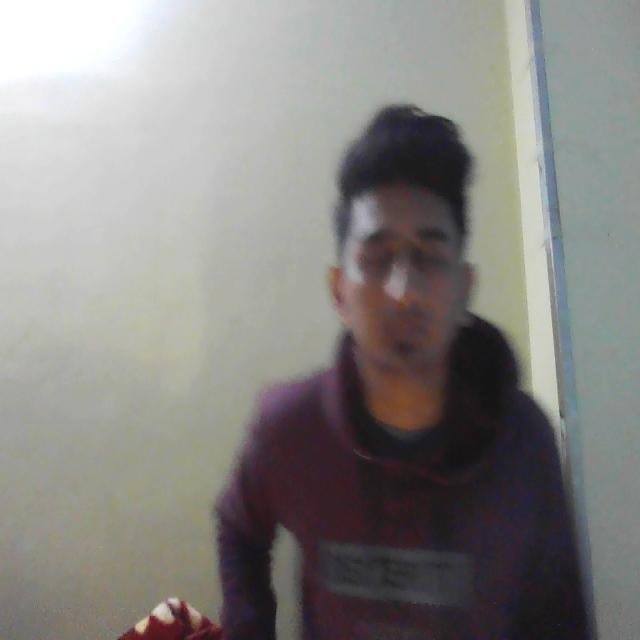real: (330, 115, 488, 413)
